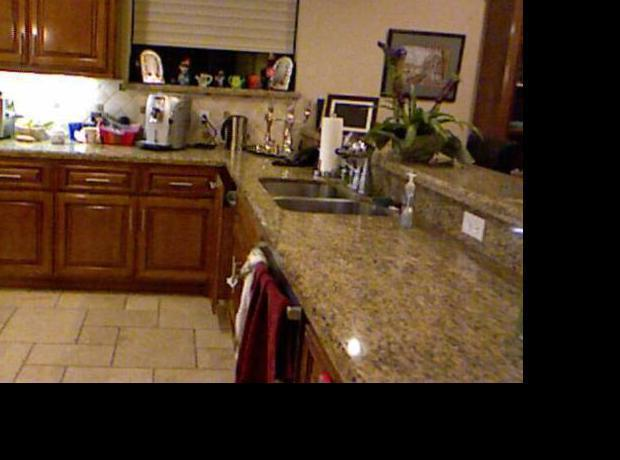Lavaplatos: (249, 131, 392, 234)
